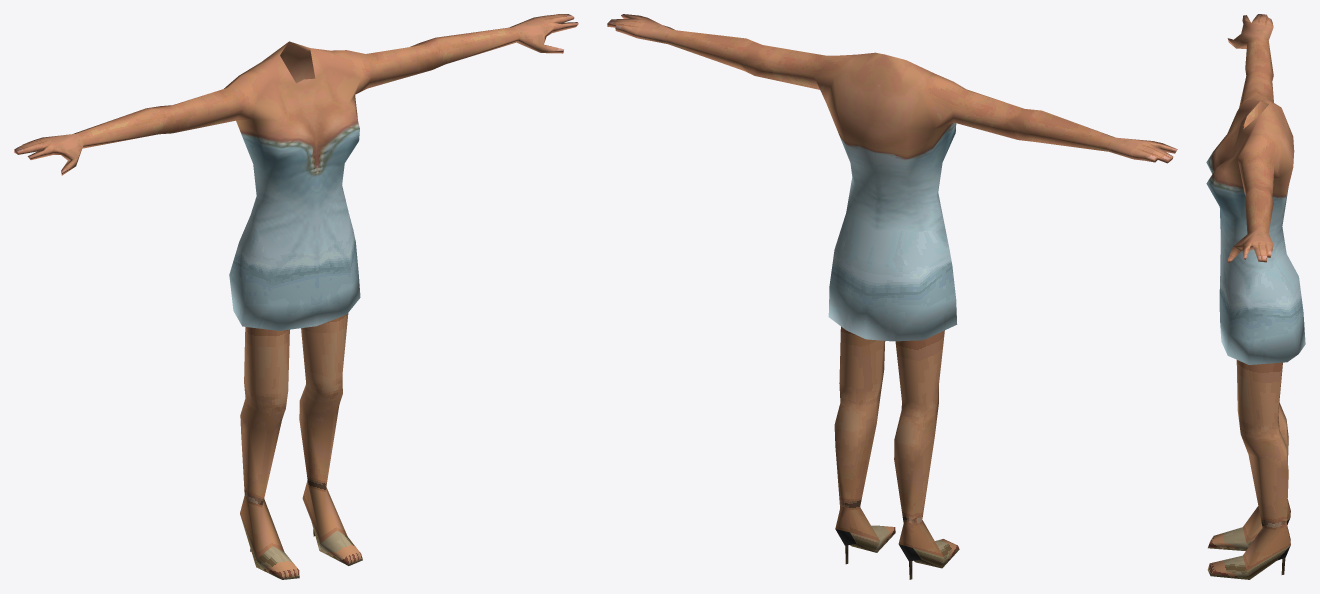
File: Eve_B.obj
3 renders of one model, left to right at view 1: azimuth 30°, elevation 25°; view 2: azimuth 150°, elevation 25°; view 3: azimuth 270°, elevation 25°, orthographic. The views are drawn at different scales.
Visible parts, largest first — view 1: Eve_B.001; view 2: Eve_B.001; view 3: Eve_B.001.
Boxes of the visible parts, x1,y1,x2,y2 form: Eve_B.001: (14,14,578,579); Eve_B.001: (607,14,1177,579); Eve_B.001: (1206,14,1305,579).
Size of the model in its own units: 19.43 by 16.93 by 3.32.
6 materials, 6 textured.
